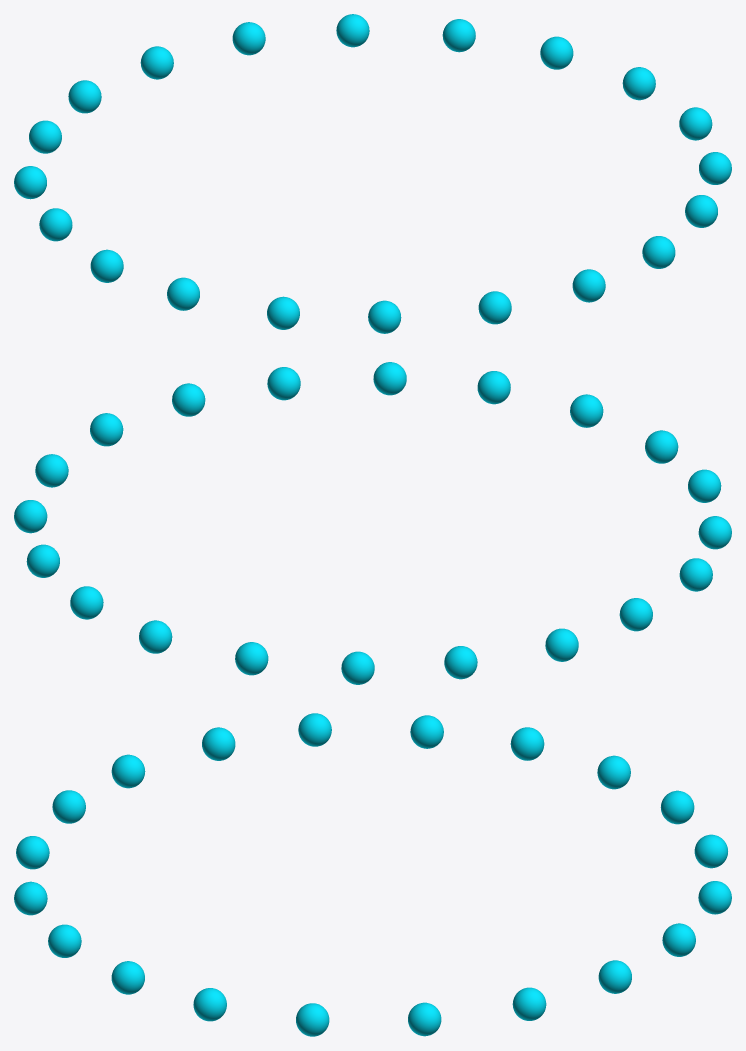
3 renders of one model, top to bottom at view 1: azimuth 30°, elevation 25°; view 2: azimuth 150°, elevation 25°; view 3: azimuth 270°, elevation 25°, orthographic.
Parts seen in each view (by area): view 1: Sphere050; view 2: Sphere050; view 3: Sphere050.
Part boxes in pixels (left/top/right/bottom): Sphere050: left=14, top=14, right=731, bottom=333; Sphere050: left=14, top=362, right=731, bottom=684; Sphere050: left=14, top=713, right=731, bottom=1036.
Bounding box in the file's own units: 176 × 8.22 × 176.
